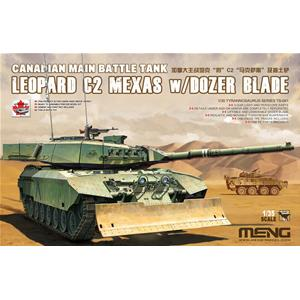Battle Tank: (1, 131, 245, 243), (225, 167, 289, 200)
